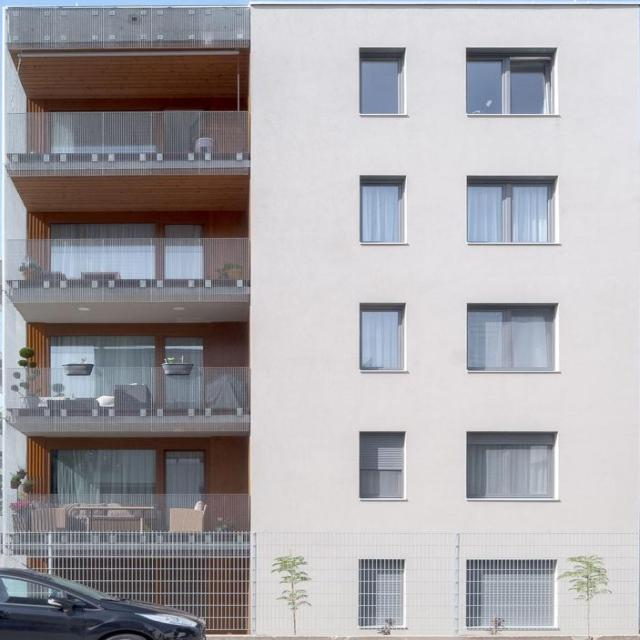Railing: (3, 113, 252, 162), (2, 372, 250, 411), (3, 496, 253, 534), (3, 242, 250, 280)
wall: (4, 2, 640, 634)
windows: (53, 446, 203, 494), (48, 330, 203, 369), (466, 560, 559, 625), (468, 306, 553, 372), (469, 180, 552, 244), (471, 434, 553, 497), (469, 54, 552, 112), (358, 561, 408, 625), (52, 219, 202, 240), (360, 305, 404, 370), (361, 431, 404, 495), (360, 178, 401, 244), (364, 56, 399, 110)
